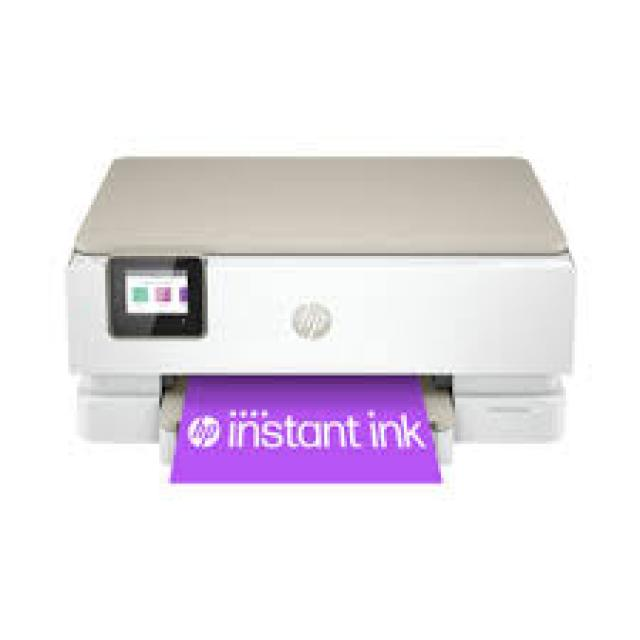printer: (62, 151, 578, 466)
